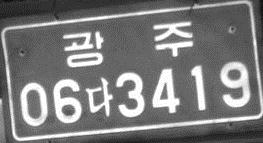0: (19, 82, 47, 127)
1: (185, 67, 214, 111)
3: (115, 71, 145, 118)
4: (151, 69, 179, 113)
6: (52, 78, 81, 124)
9: (219, 61, 250, 107)
광주_D: (62, 20, 194, 67)
다: (84, 77, 113, 117)
